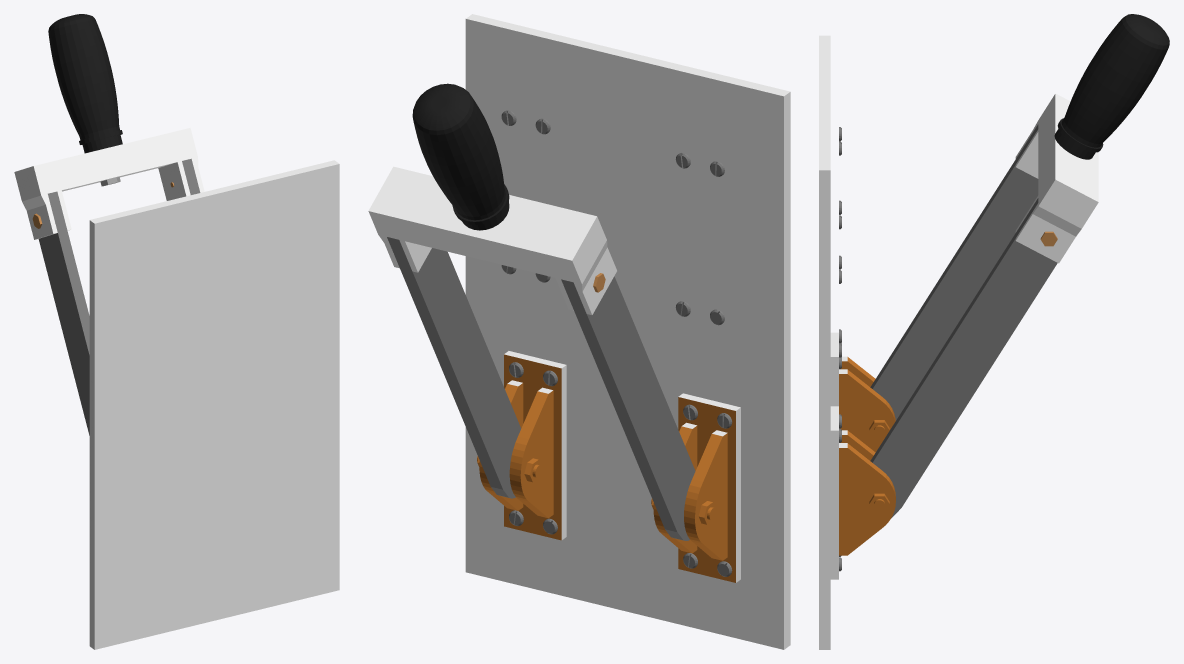
The model's file is Lever.fbx.
3 renders of one model, left to right at view 1: azimuth 30°, elevation 25°; view 2: azimuth 150°, elevation 25°; view 3: azimuth 270°, elevation 25°, orthographic. The views are drawn at different scales.
Visible parts, largest first — view 1: node_id52, node_id4 (×2), node_id31; view 2: node_id52, node_id4 (×2), node_id31, node_id10, node_id20 (×2), node_id41 (×2); view 3: node_id4 (×2), node_id10, node_id31, node_id52, node_id20 (×2), node_id41 (×2).
Boxes of the visible parts, x1,y1,x2,y2 form: node_id52: [89, 160, 339, 649]; node_id4 (×2): [14, 14, 204, 239]; node_id31: [38, 191, 89, 435]; node_id52: [465, 14, 790, 649]; node_id4 (×2): [368, 83, 616, 314]; node_id31: [561, 276, 695, 540]; node_id10: [387, 237, 521, 498]; node_id20 (×2): [477, 351, 566, 540]; node_id41 (×2): [651, 393, 740, 582]; node_id4 (×2): [1015, 14, 1169, 263]; node_id10: [870, 198, 1057, 518]; node_id31: [870, 124, 1038, 420]; node_id52: [819, 35, 830, 649]; node_id20 (×2): [830, 406, 895, 579]; node_id41 (×2): [830, 332, 895, 452].
Bounding box in the file's own units: 0.2617 × 0.512 × 0.2882.
28 materials, 3 textured.
